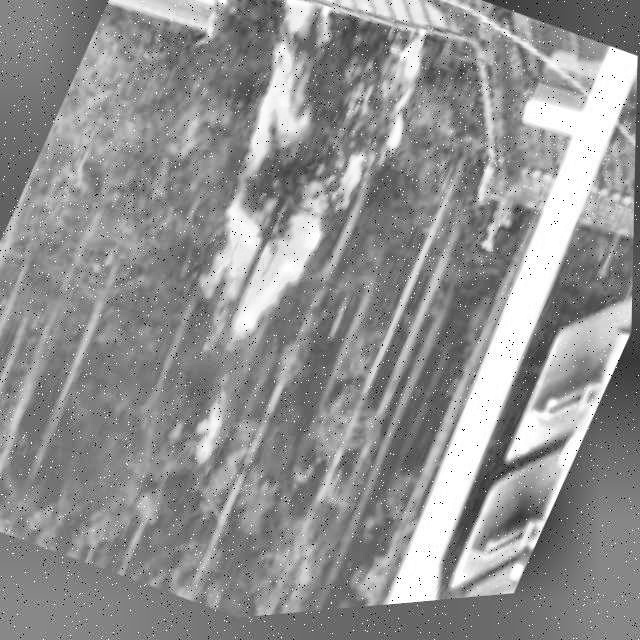Fire: (141, 0, 443, 398), (180, 372, 247, 476)
